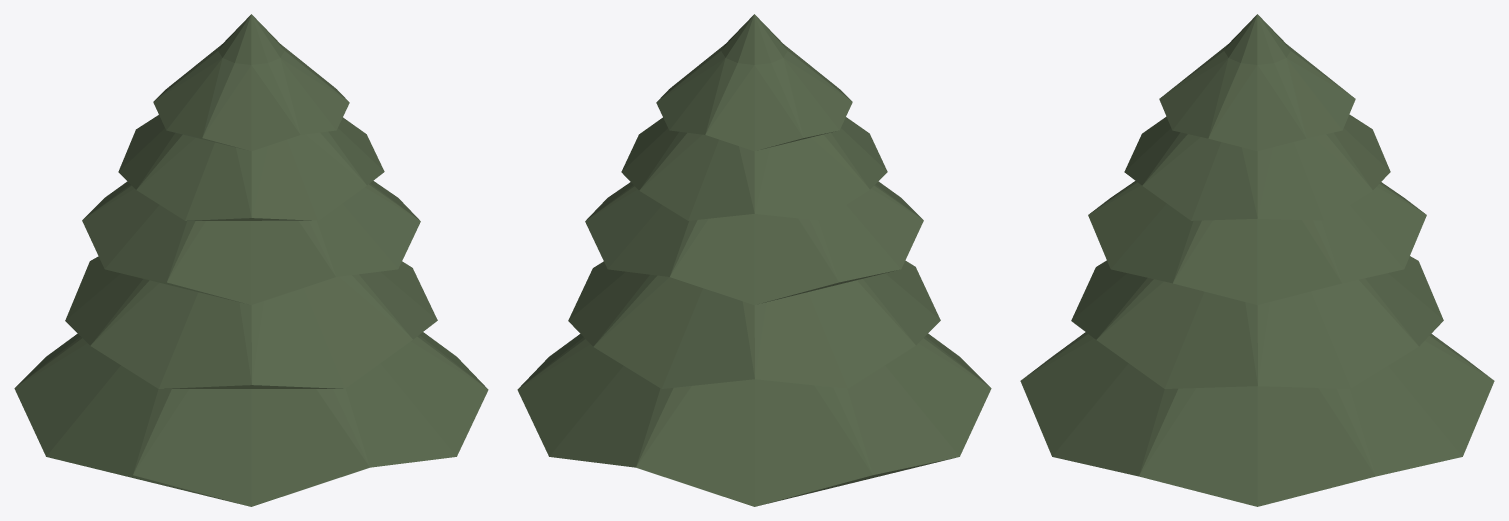
The model's file is tree2.dae.
3 views of the same model, side by side, from view 1: azimuth 30°, elevation 25°; view 2: azimuth 150°, elevation 25°; view 3: azimuth 270°, elevation 25° (orthographic).
Visible parts, largest first — view 1: Cylinder_001; view 2: Cylinder_001; view 3: Cylinder_001.
Boxes of the visible parts, x1,y1,x2,y2 form: Cylinder_001: (14,14,488,506); Cylinder_001: (517,14,991,506); Cylinder_001: (1020,14,1494,506).
Size of the model in its own units: 5.72 by 6.09 by 5.72.
